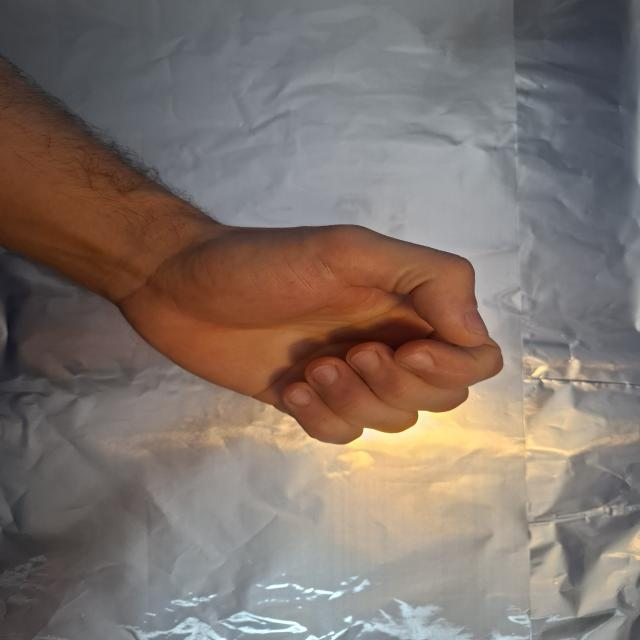glove_off: (100, 210, 507, 447)
